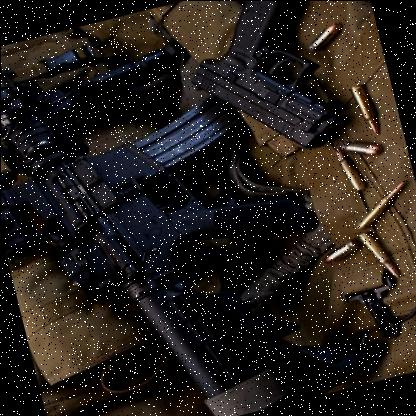rifle: (0, 0, 360, 416), (165, 0, 365, 174)
